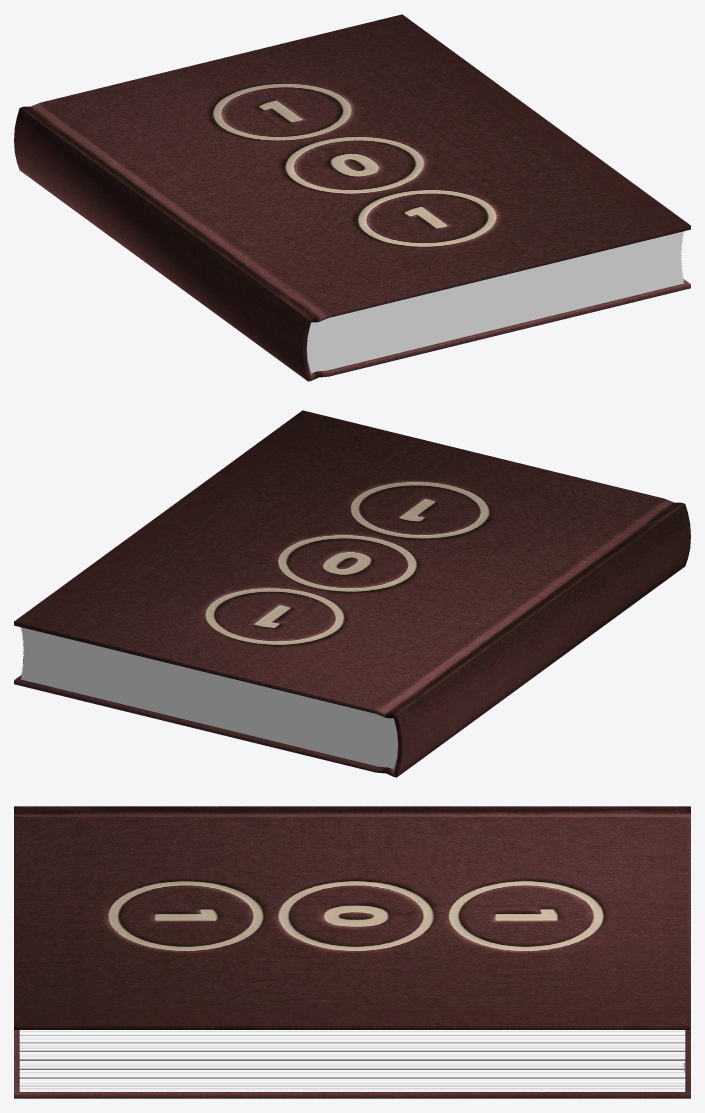
The model's file is ClosedBook-1-compressed.glb.
3 renders of one model, top to bottom at view 1: azimuth 30°, elevation 25°; view 2: azimuth 150°, elevation 25°; view 3: azimuth 270°, elevation 25°, orthographic. The views are drawn at different scales.
Visible parts, largest first — view 1: Cube001, PageStack, Cube001_2, Cube001_1; view 2: Cube001, PageStack, Cube001_2, Cube001_1; view 3: Cube001, PageStack, Cube001_1.
Part boxes in pixels (x1,y1,x2,y2): Cube001: (20, 14, 690, 322); PageStack: (307, 231, 684, 373); Cube001_2: (14, 108, 310, 381); Cube001_1: (308, 279, 690, 381); Cube001: (14, 410, 684, 718); PageStack: (20, 627, 397, 769); Cube001_2: (394, 504, 690, 777); Cube001_1: (14, 675, 396, 777); Cube001: (14, 806, 690, 1029); PageStack: (19, 1030, 685, 1091); Cube001_1: (14, 1030, 690, 1098).
Size of the model in its own units: 3.88 by 0.6001 by 4.99.
Materials: 5 (3 with a texture image).
